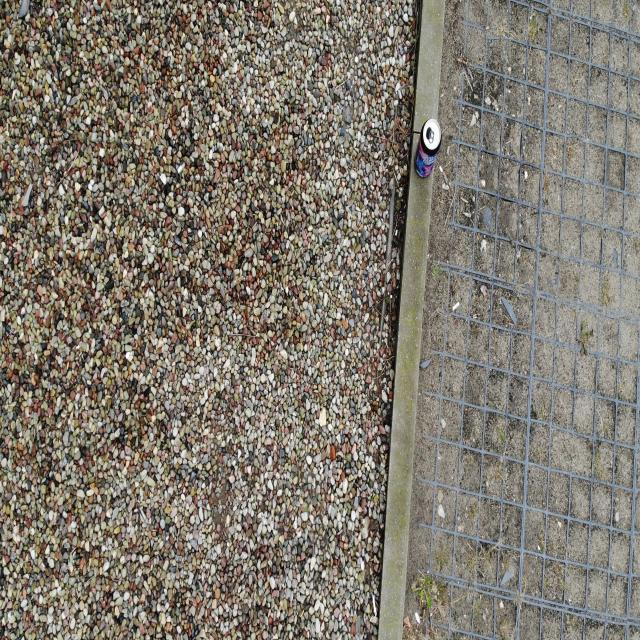rubbish: (414, 120, 441, 178)
